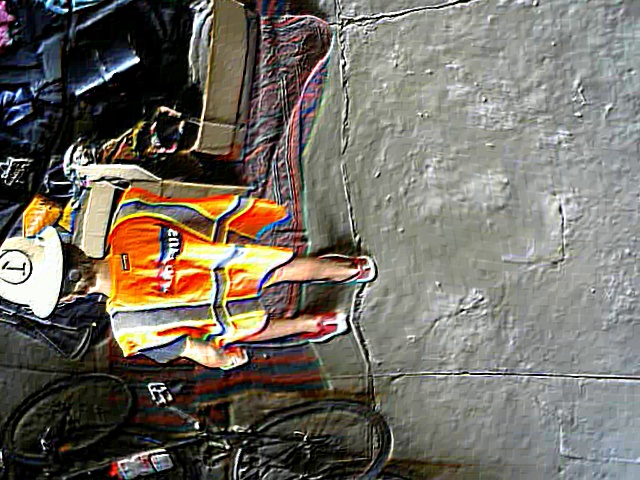one: (0, 250, 32, 286)
